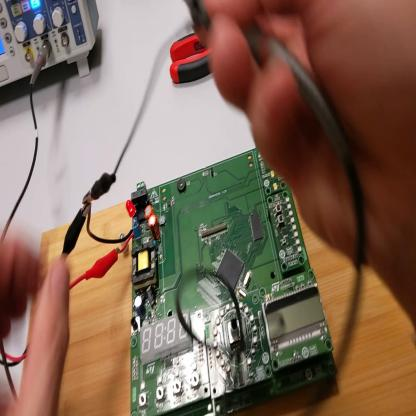hand: (206, 3, 416, 276), (2, 234, 71, 416)
low voltage board: (90, 148, 343, 414)
oscilloscope: (2, 1, 102, 93)
oscilloscope probe tip: (184, 1, 283, 54)
pliers: (169, 25, 213, 88)
working area: (19, 201, 416, 414)
